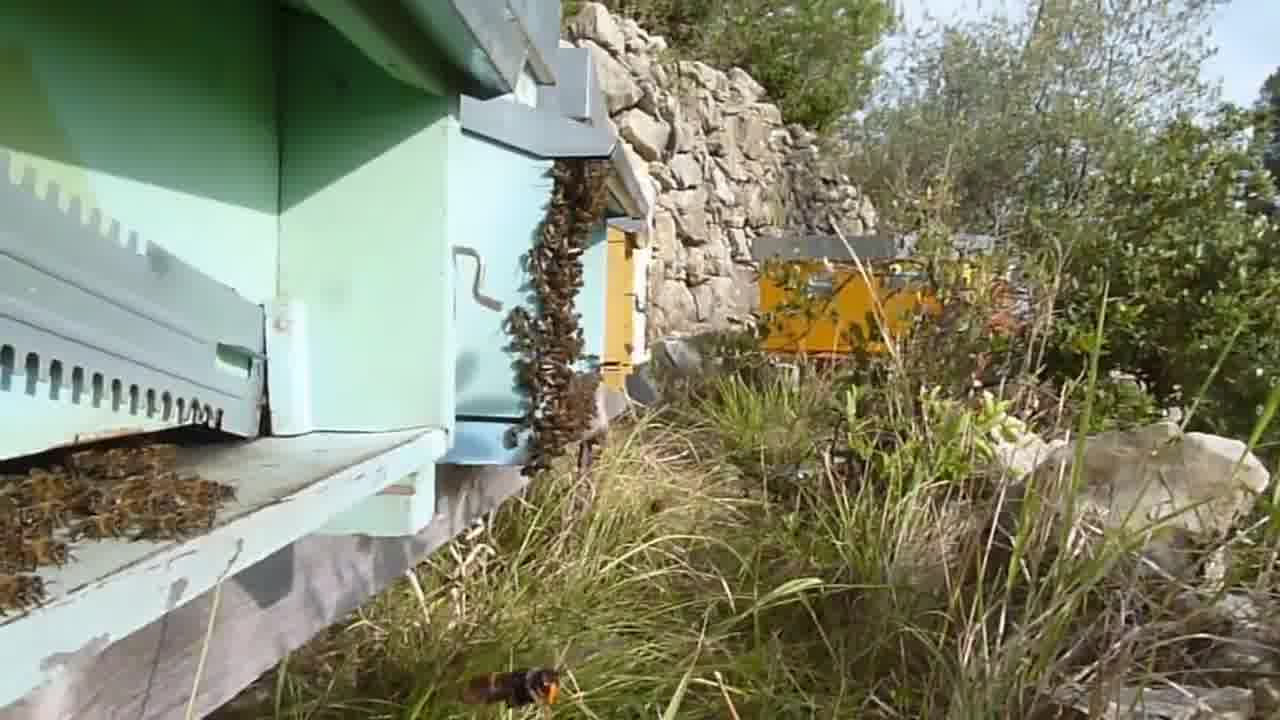bee: (3, 468, 78, 556), (544, 154, 614, 239), (503, 307, 588, 377), (526, 376, 597, 453), (519, 243, 591, 308), (75, 436, 162, 479), (150, 484, 220, 532), (79, 486, 134, 546), (1, 562, 59, 613)
hornet: (460, 649, 565, 716)
